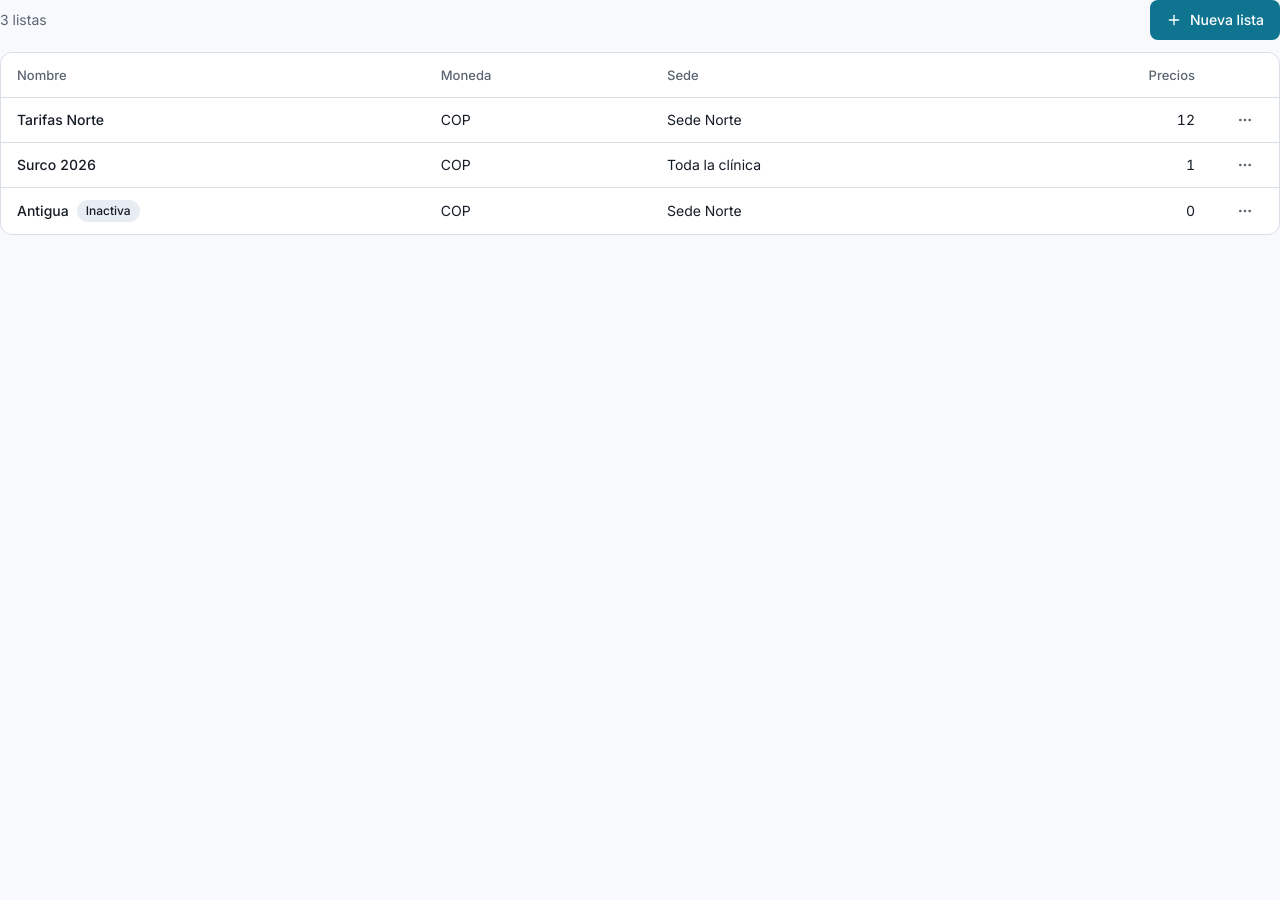
it: PriceListsManager (DX-105) › crea una lista: la moneda sigue a la sede elegida y se envía tal cual
This screenshot has width=1280, height=900.
Check: the table named "Listas de precios" is shown, box [1,53,1279,234]
Step 1. Click the button "Nueva lista" → (1215, 20), box [1150,0,1279,40]
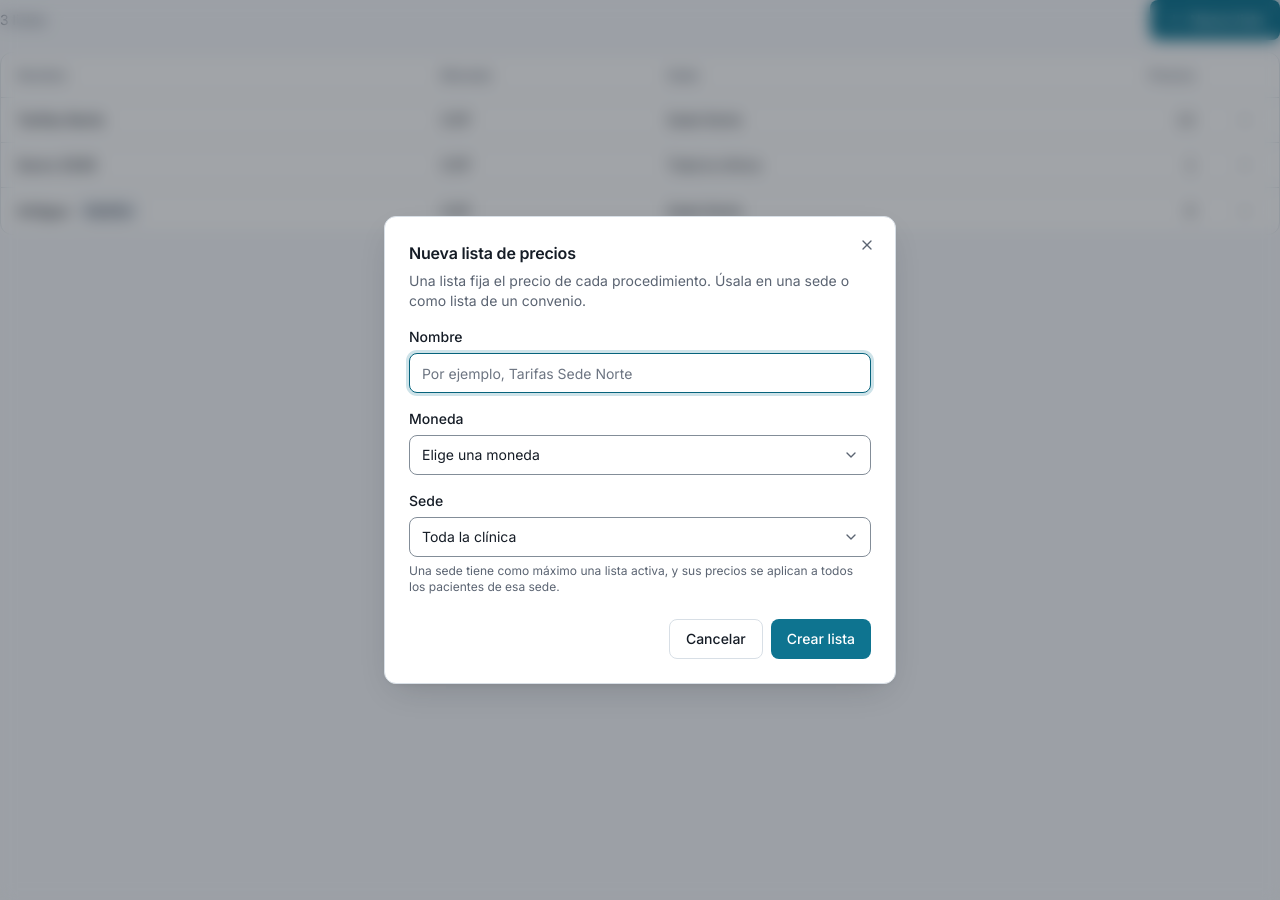
Step 2. Type " a " into the field labelled "Nombre" → (640, 373), box [409,353,871,393]
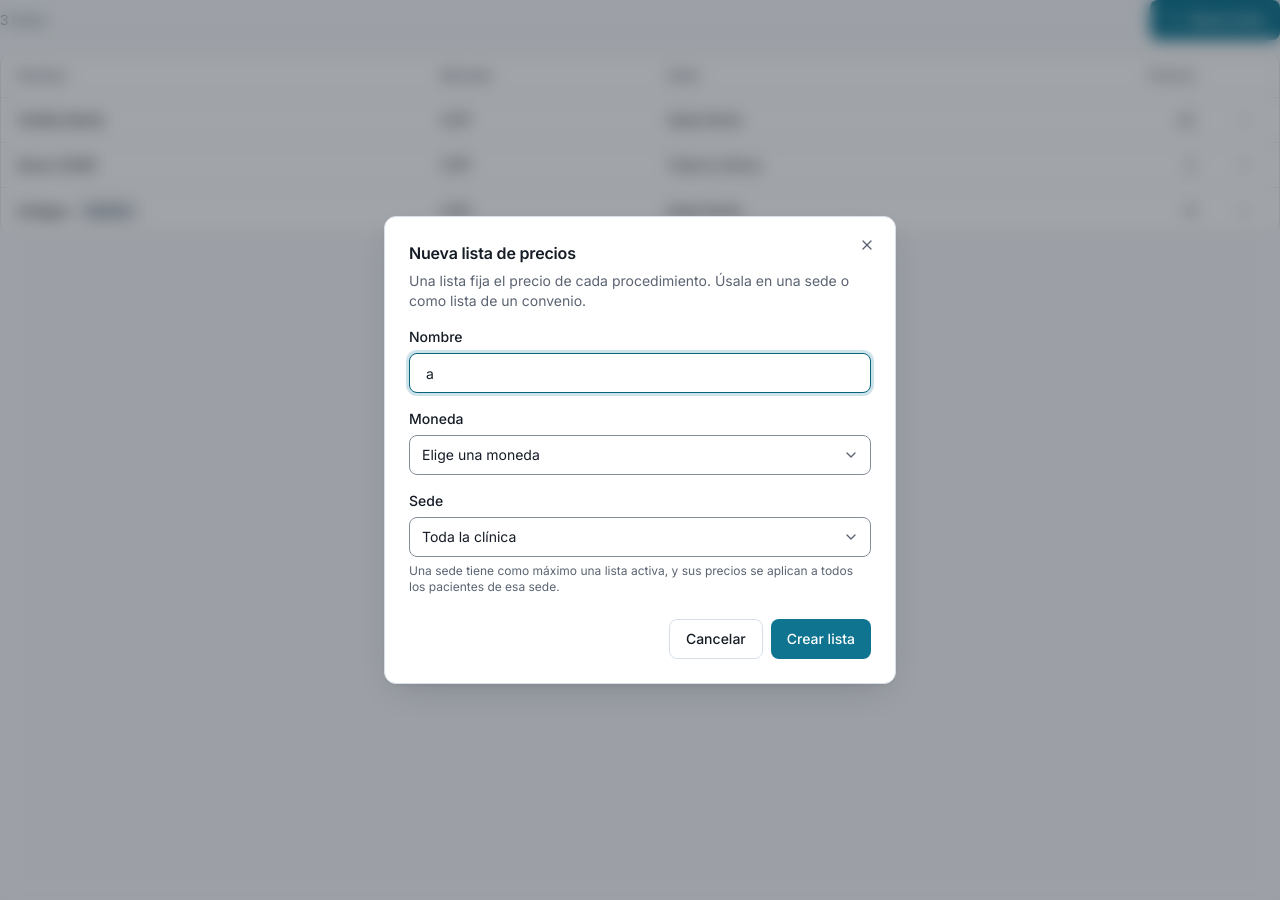
Step 3. Click the button "Crear lista" → (821, 639), box [771,619,871,659]
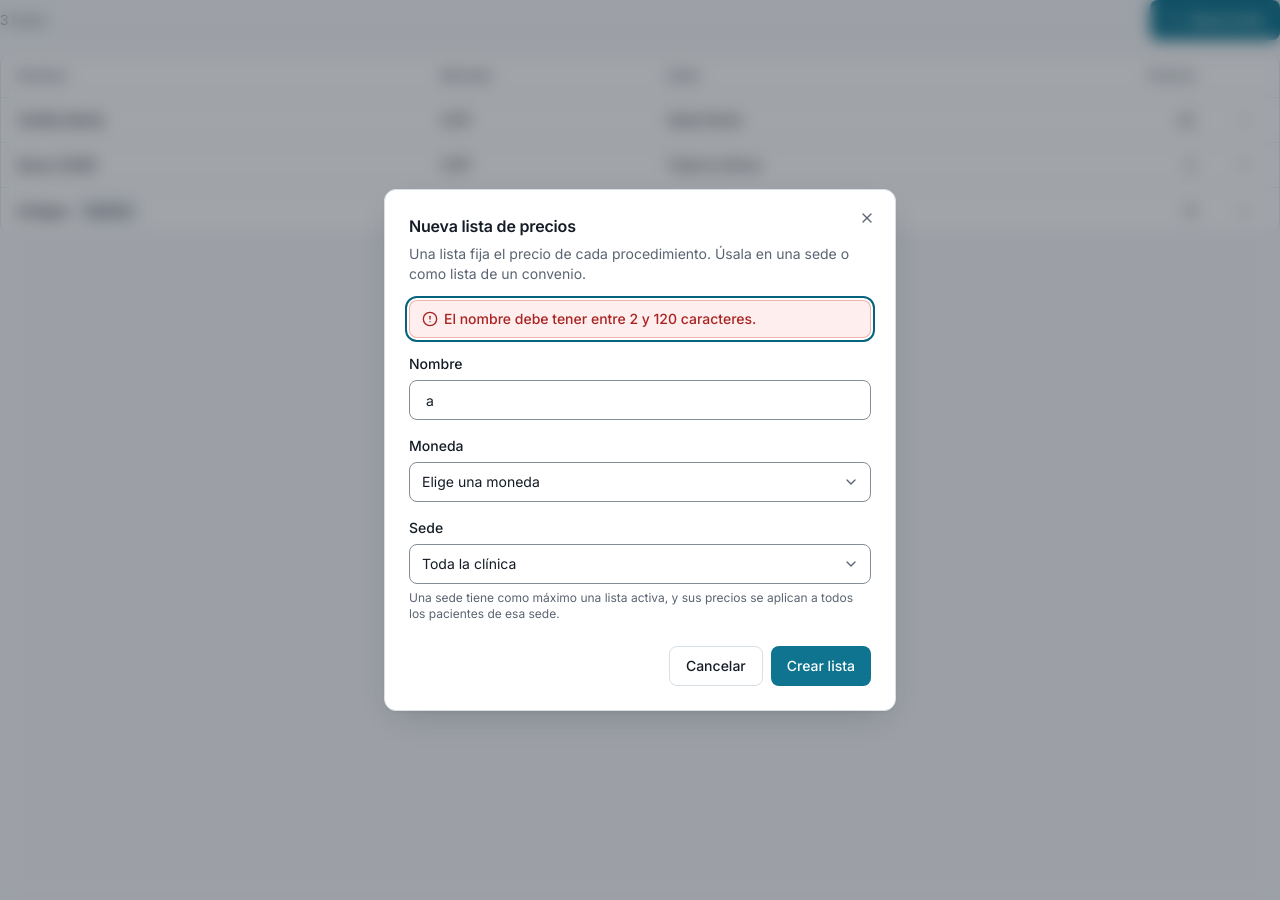
Check: the text "El nombre debe tener entre 2 y 120 caracteres." is shown, box [444,309,756,329]
Step 4. Replace the text in the field labelled "Nombre" with "Madrid 2026" → (640, 400), box [409,380,871,420]
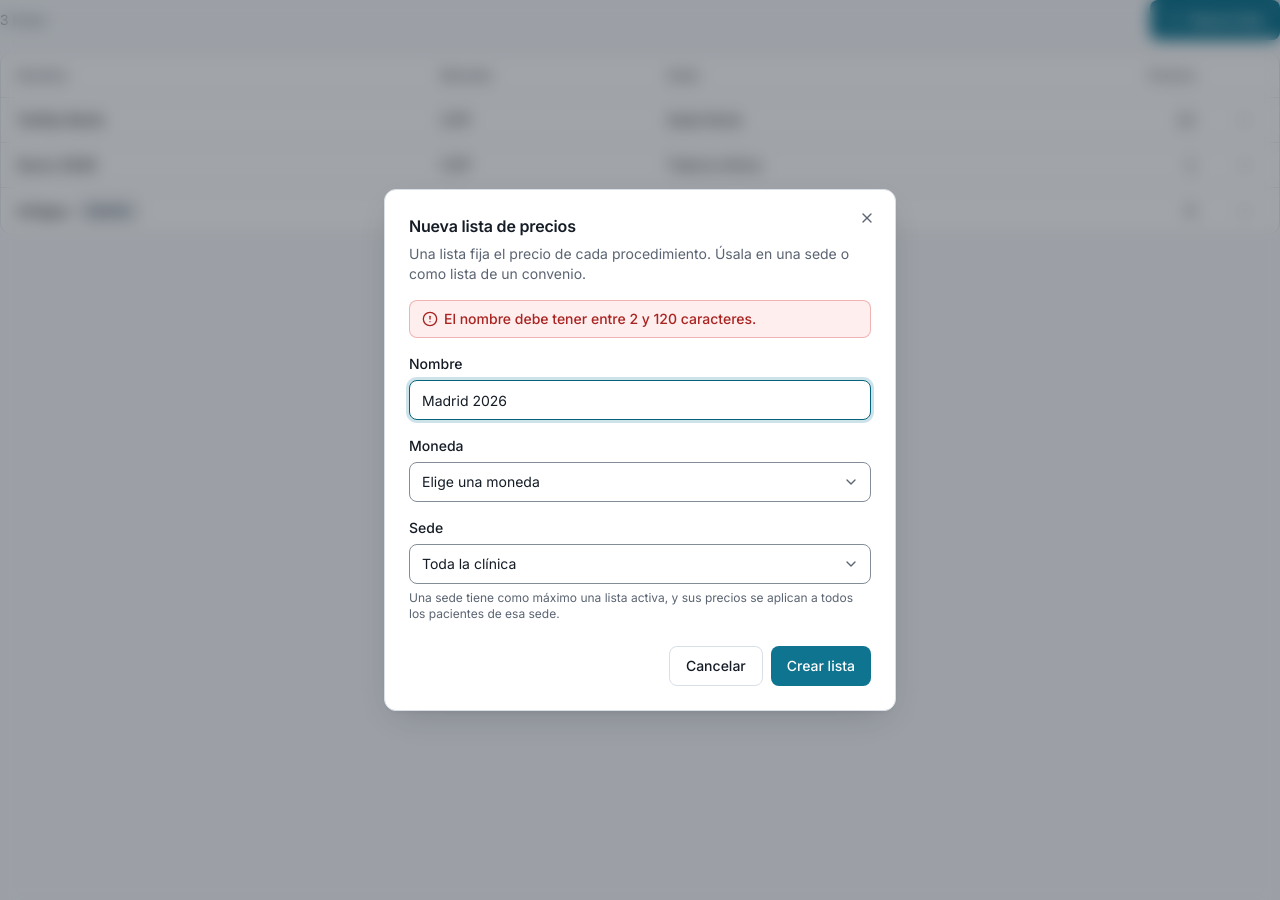
Step 5. Select "Sede Madrid" in the dropdown labelled "Sede" → (640, 564), box [409,544,871,584]
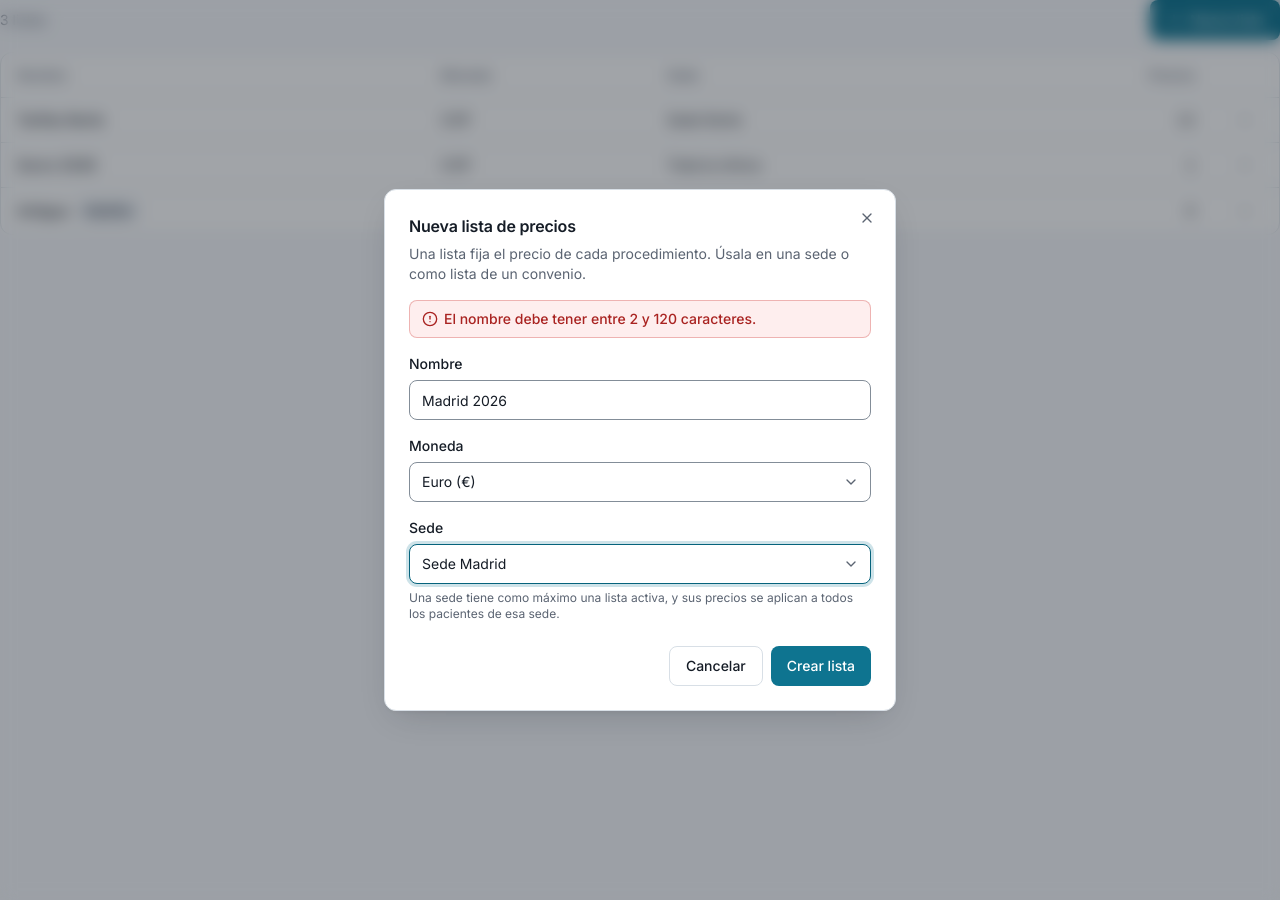
Check: the dropdown labelled "Moneda" shows "Euro (€)", box [409,462,871,502]
Step 6. Click the button "Crear lista" → (821, 666), box [771,646,871,686]
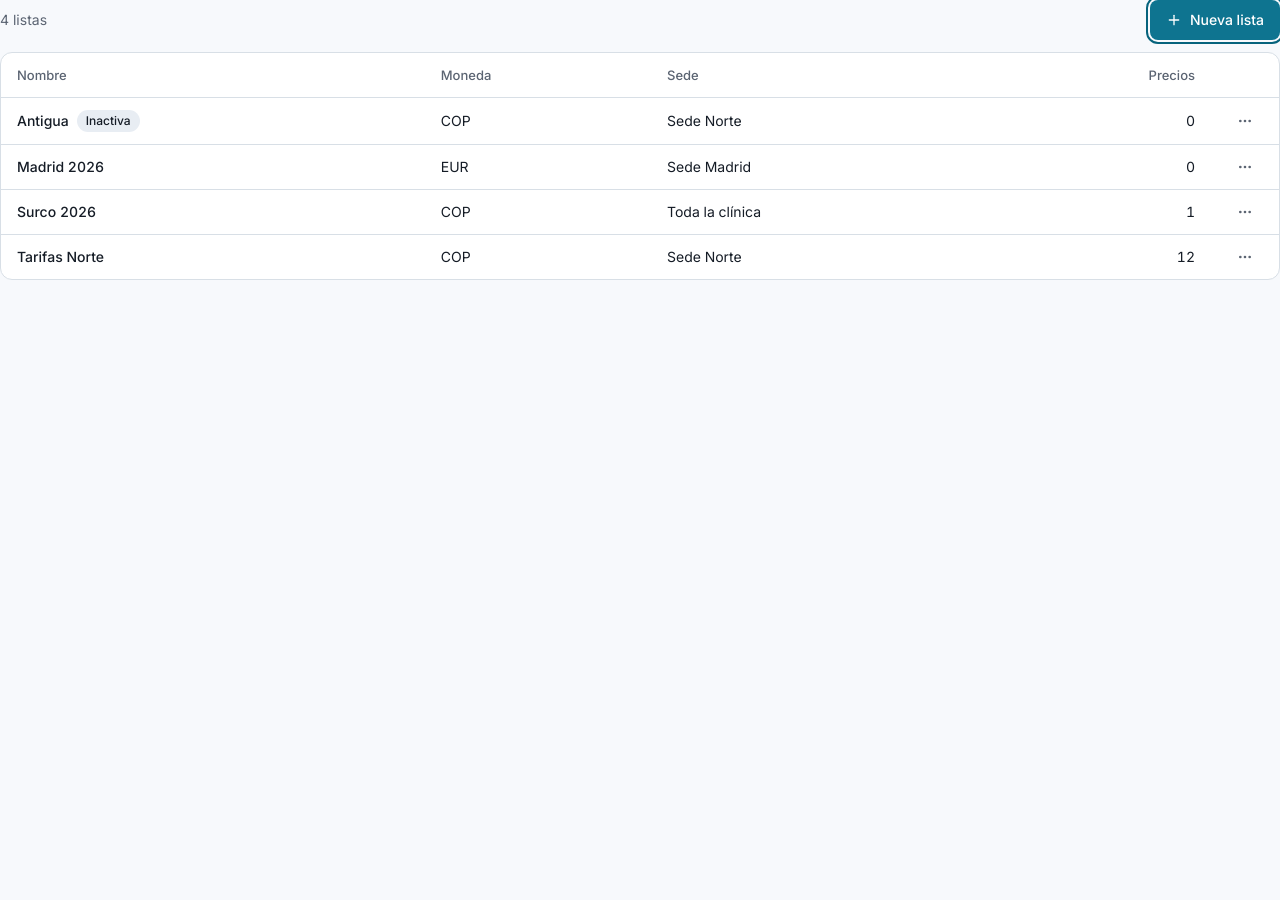
Check: the text "Madrid 2026" is shown, box [17,156,104,176]
